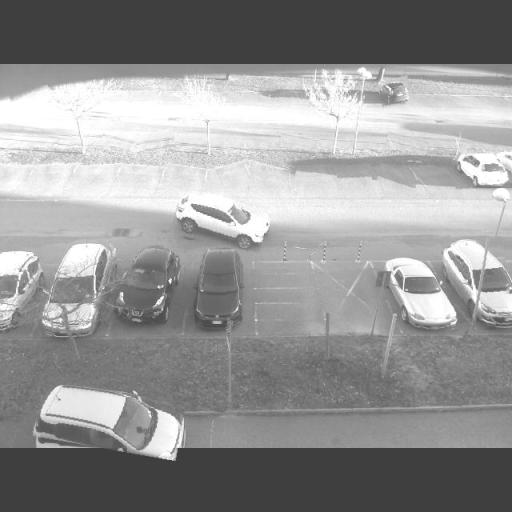busy: (24, 382, 184, 454), (102, 243, 184, 327), (444, 238, 511, 330), (172, 192, 268, 248), (382, 257, 455, 329), (184, 246, 246, 326), (43, 248, 114, 302), (0, 254, 38, 326), (38, 304, 98, 338), (453, 153, 509, 189), (378, 77, 412, 107), (497, 151, 512, 182)
free: (70, 158, 126, 198), (24, 160, 82, 198), (113, 159, 167, 198), (158, 160, 210, 195), (244, 158, 296, 192), (290, 158, 336, 194), (201, 159, 252, 190), (375, 164, 417, 199), (330, 163, 372, 194), (130, 130, 176, 158), (242, 127, 284, 151), (57, 129, 103, 149), (241, 87, 276, 110), (96, 132, 140, 150), (279, 133, 319, 152), (386, 134, 428, 152), (9, 86, 50, 104), (268, 90, 302, 110), (214, 88, 246, 108), (126, 89, 162, 106), (157, 90, 190, 106), (419, 168, 450, 184)
